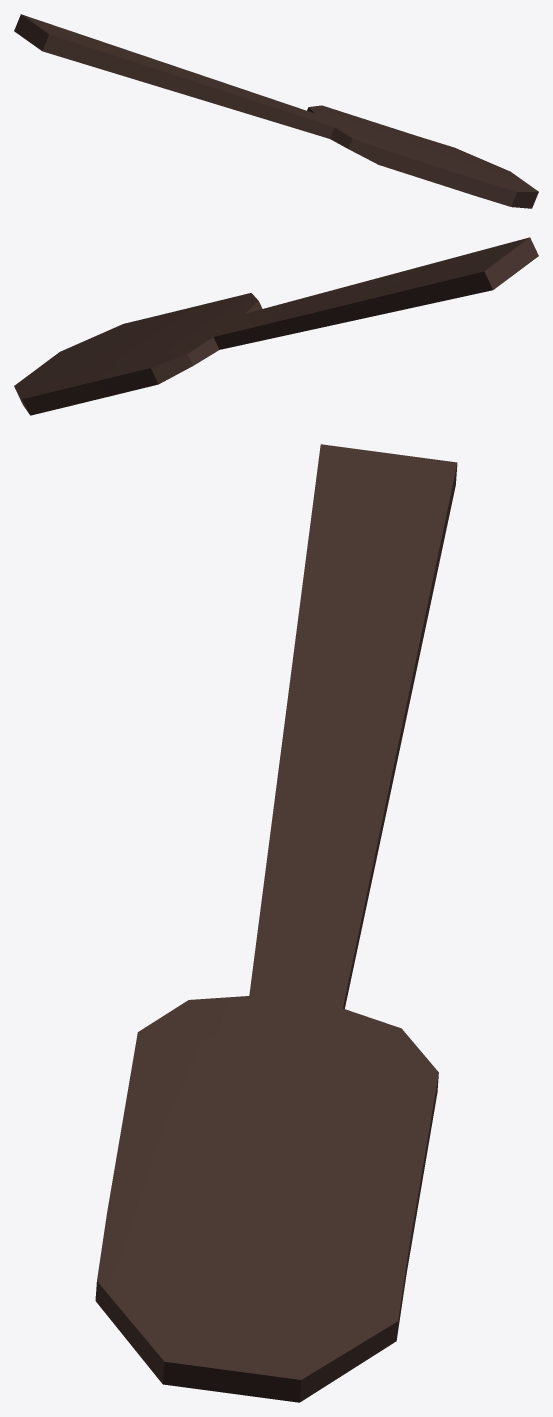
The model's file is Cucchiaio.fbx.
The picture shows the model from 3 angles, top to bottom: view 1: azimuth 30°, elevation 25°; view 2: azimuth 150°, elevation 25°; view 3: azimuth 270°, elevation 25°; orthographic projection. The views are drawn at different scales.
Visible parts, largest first — view 1: Spon.002; view 2: Spon.002; view 3: Spon.002.
Part boxes in pixels (x1,y1,x2,y2): Spon.002: [14, 14, 538, 208]; Spon.002: [14, 237, 538, 415]; Spon.002: [95, 444, 457, 1402].
Size of the model in its own units: 39.74 by 21.29 by 13.43.
